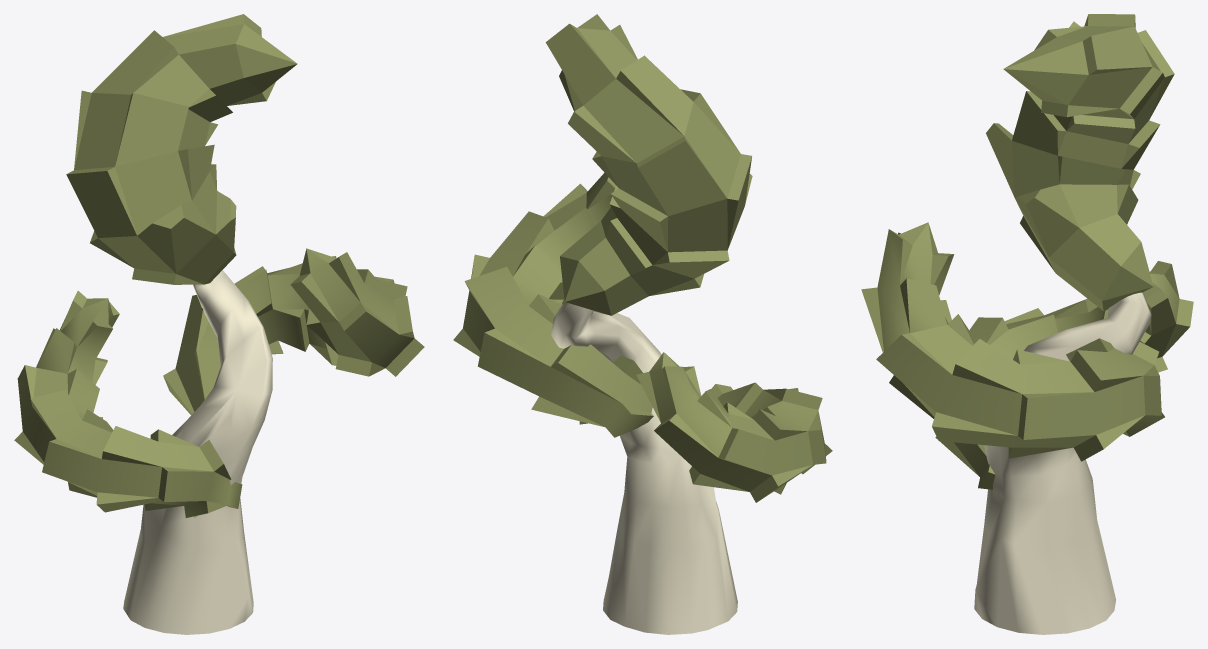
Rendered from tree6.fbx.
3 views of the same model, side by side, from view 1: azimuth 30°, elevation 25°; view 2: azimuth 150°, elevation 25°; view 3: azimuth 270°, elevation 25° (orthographic). The views are drawn at different scales.
Parts seen in each view (by area): view 1: CrownTail01, TreeTail17_4, CrownTail03, CrownTail02; view 2: CrownTail01, TreeTail17_4, CrownTail02, CrownTail03; view 3: CrownTail01, CrownTail02, TreeTail17_4, CrownTail03.
Part boxes in pixels (box(x1,y1,x2,y2)): CrownTail01: box(66, 14, 297, 284); TreeTail17_4: box(123, 270, 272, 634); CrownTail03: box(14, 291, 242, 517); CrownTail02: box(163, 248, 424, 415); CrownTail01: box(545, 14, 752, 315); TreeTail17_4: box(551, 302, 737, 634); CrownTail02: box(453, 173, 653, 437); CrownTail03: box(636, 352, 832, 502); CrownTail01: box(986, 14, 1174, 311); CrownTail02: box(861, 222, 1164, 461); TreeTail17_4: box(974, 292, 1151, 634); CrownTail03: box(935, 261, 1193, 489).
Size of the model in its own units: 14.25 by 21.61 by 10.69.
